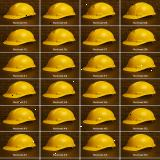Helmet: (42, 28, 76, 46), (82, 28, 116, 46), (122, 28, 156, 46), (42, 54, 76, 72), (82, 107, 116, 125), (123, 81, 156, 99), (3, 107, 36, 125), (82, 3, 116, 20), (2, 55, 36, 72), (82, 55, 116, 72), (2, 81, 36, 98), (42, 81, 76, 98), (82, 81, 116, 98), (82, 134, 116, 151), (122, 134, 156, 151), (123, 2, 156, 19), (3, 3, 36, 20), (123, 55, 156, 72), (3, 134, 36, 151), (43, 134, 76, 151), (42, 3, 76, 19), (2, 29, 36, 45), (122, 108, 156, 124), (43, 108, 76, 124)
